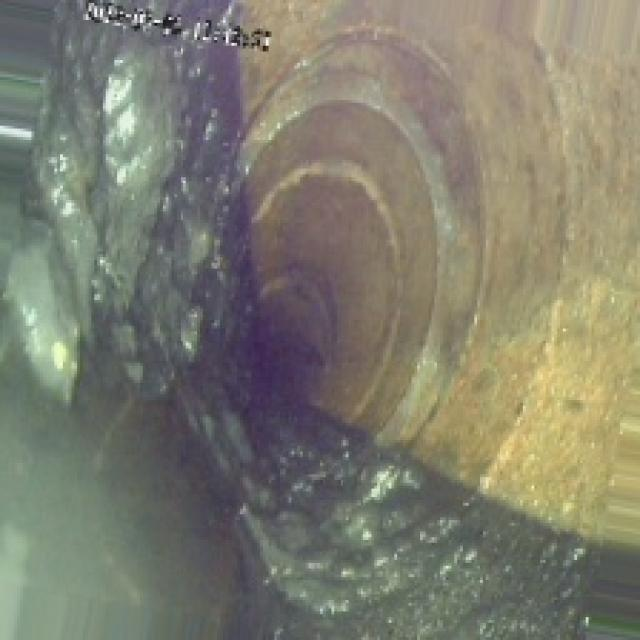sluge accumulation: (26, 46, 403, 637)
